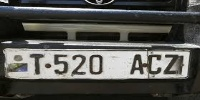T: (28, 52, 46, 76)
